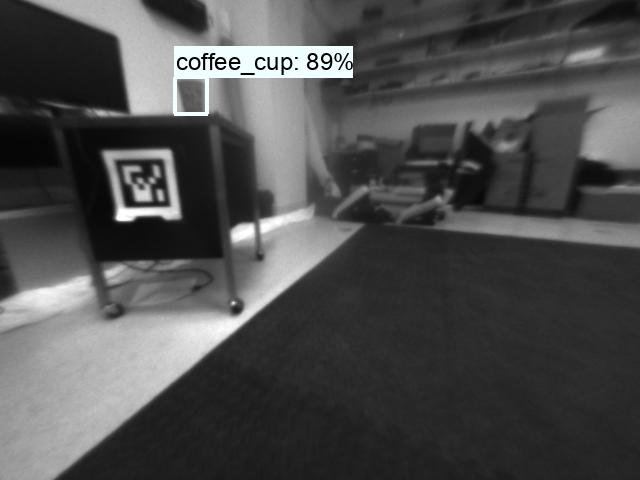coffee_cup: (173, 78, 207, 114)
